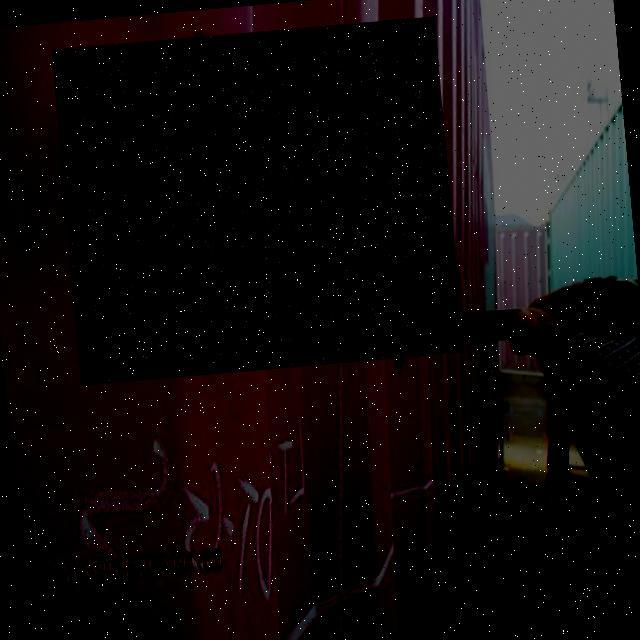Dent: (52, 16, 464, 385)
